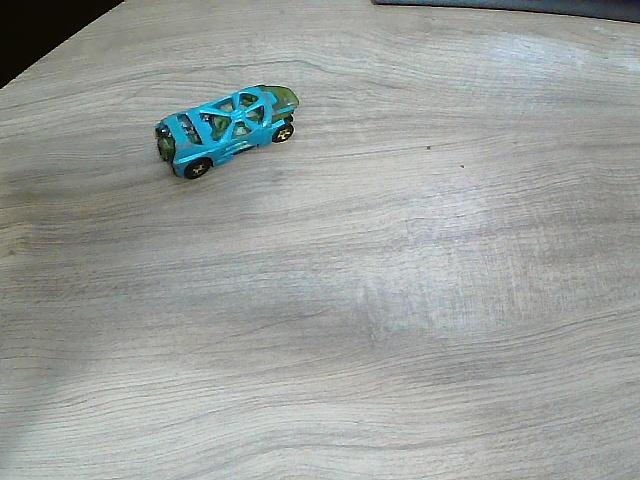Carro: (154, 85, 299, 180)
